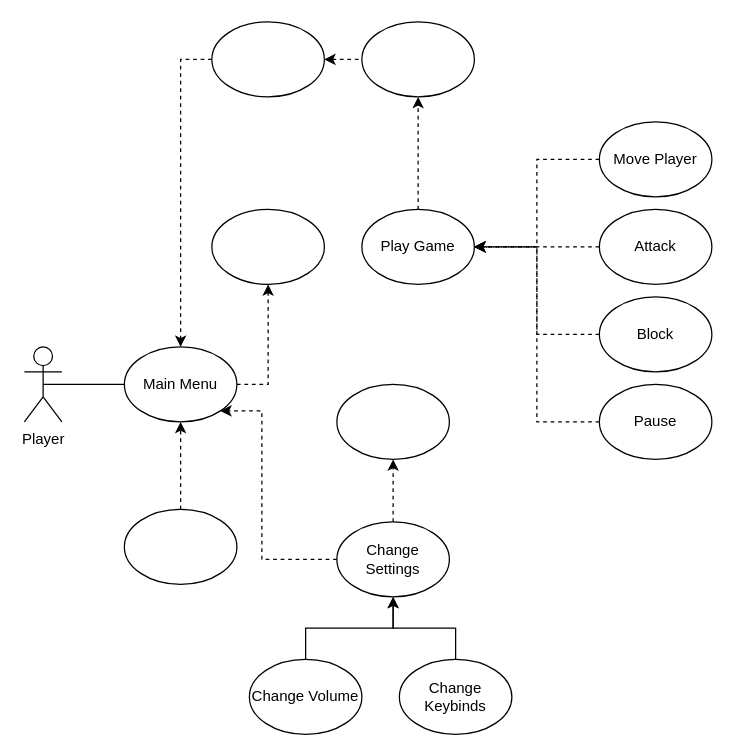
This 734x756 diagram has some shape labels left out. Each missing label, with the centre of its shape:
Choose Save: pixel 417 59
Load Saves: pixel 267 246
Quit: pixel 180 546
Save: pixel 392 421
Start: pixel 267 59
